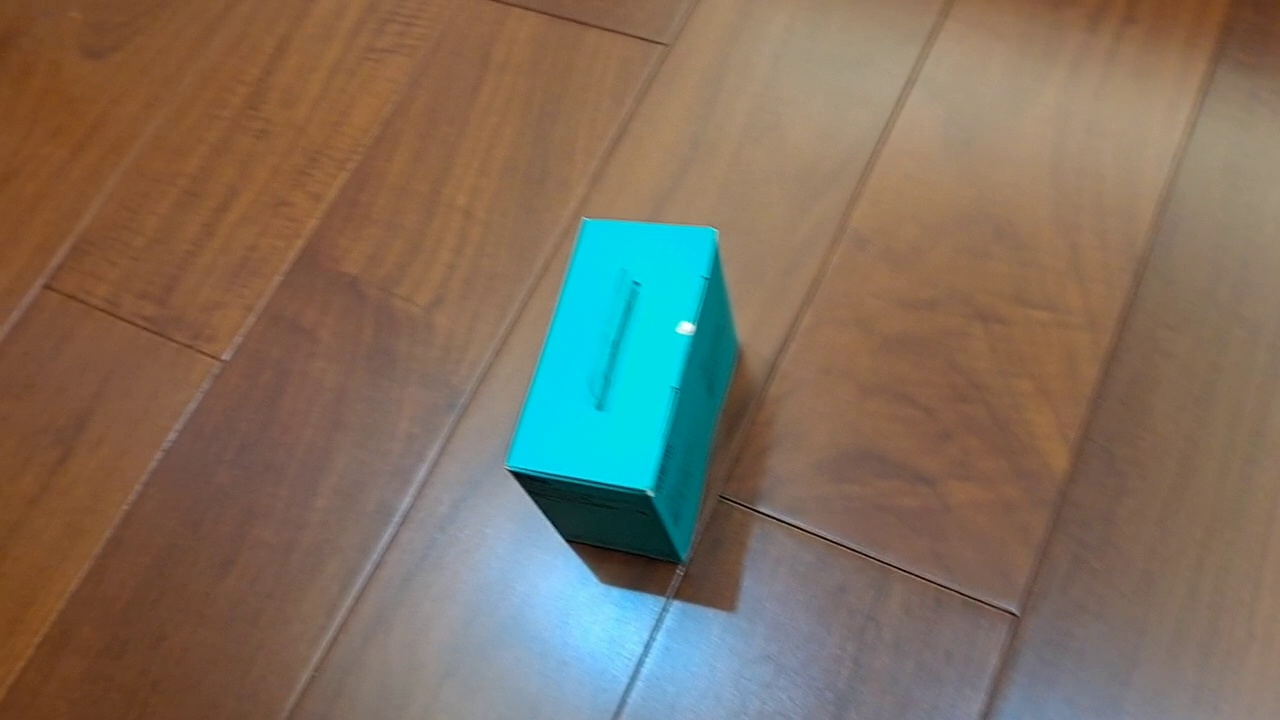webcam: (502, 215, 741, 568)
